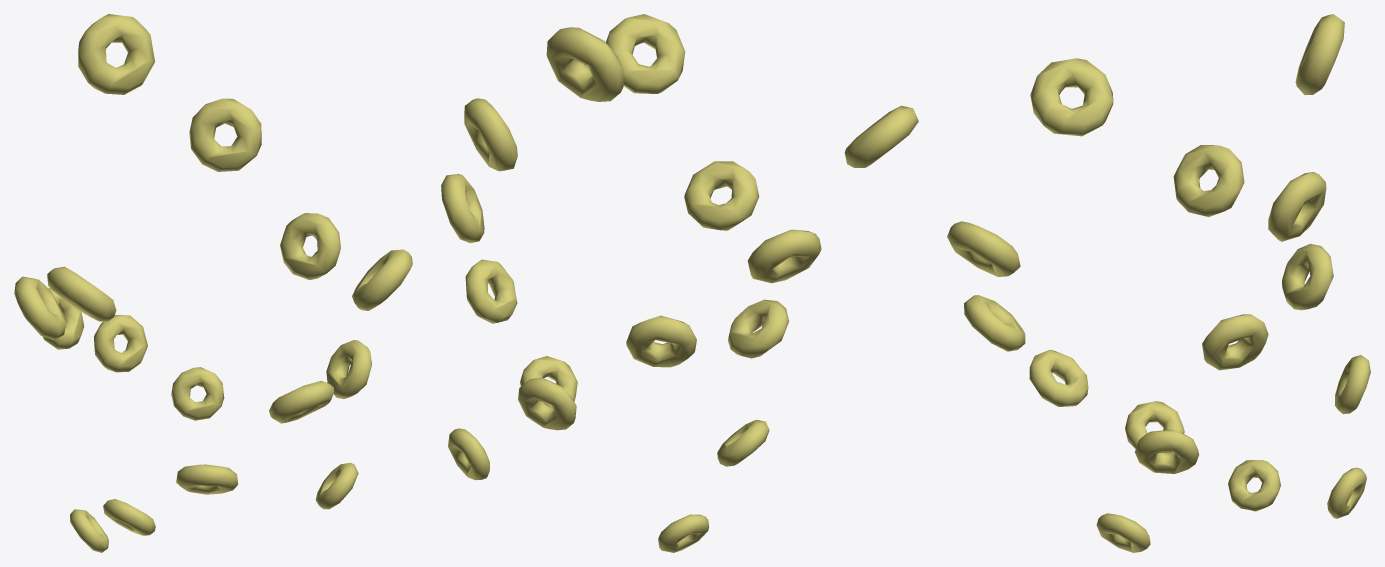
Rendered from donutnado.gltf.
3 views of the same model, side by side, from view 1: azimuth 30°, elevation 25°; view 2: azimuth 150°, elevation 25°; view 3: azimuth 270°, elevation 25° (orthographic). The views are drawn at different scales.
Visible parts, largest first — view 1: donas espiral; view 2: donas espiral; view 3: donas espiral.
Boxes of the visible parts, x1,y1,x2,y2 form: donas espiral: (14,14,412,552); donas espiral: (441,14,918,552); donas espiral: (947,14,1370,552).
Size of the model in its own units: 14.72 by 19.34 by 14.38.
